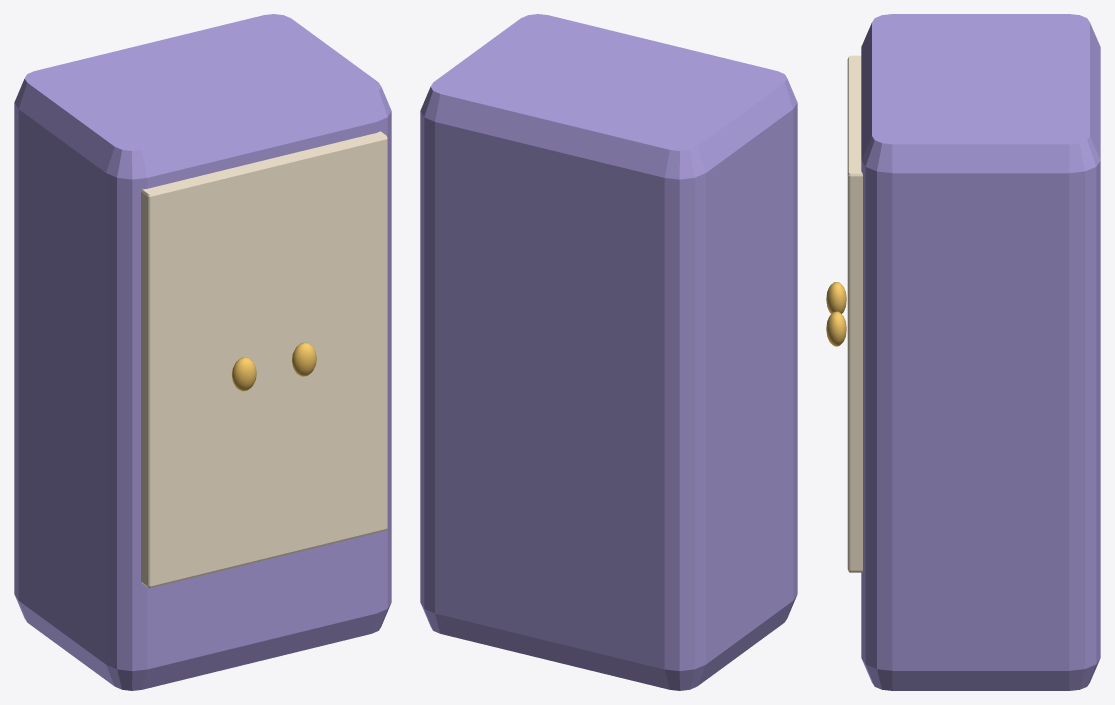
The model's file is pet_wardrobe.glb.
3 views of the same model, side by side, from view 1: azimuth 30°, elevation 25°; view 2: azimuth 150°, elevation 25°; view 3: azimuth 270°, elevation 25° (orthographic).
Parts seen in each view (by area): view 1: model; view 2: model; view 3: model.
Boxes of the visible parts, left/top/right/bottom form: model: left=14, top=14, right=391, bottom=690; model: left=420, top=14, right=797, bottom=690; model: left=826, top=14, right=1100, bottom=690.
Bounding box in the file's own units: 0.6 × 1.1 × 0.5.
